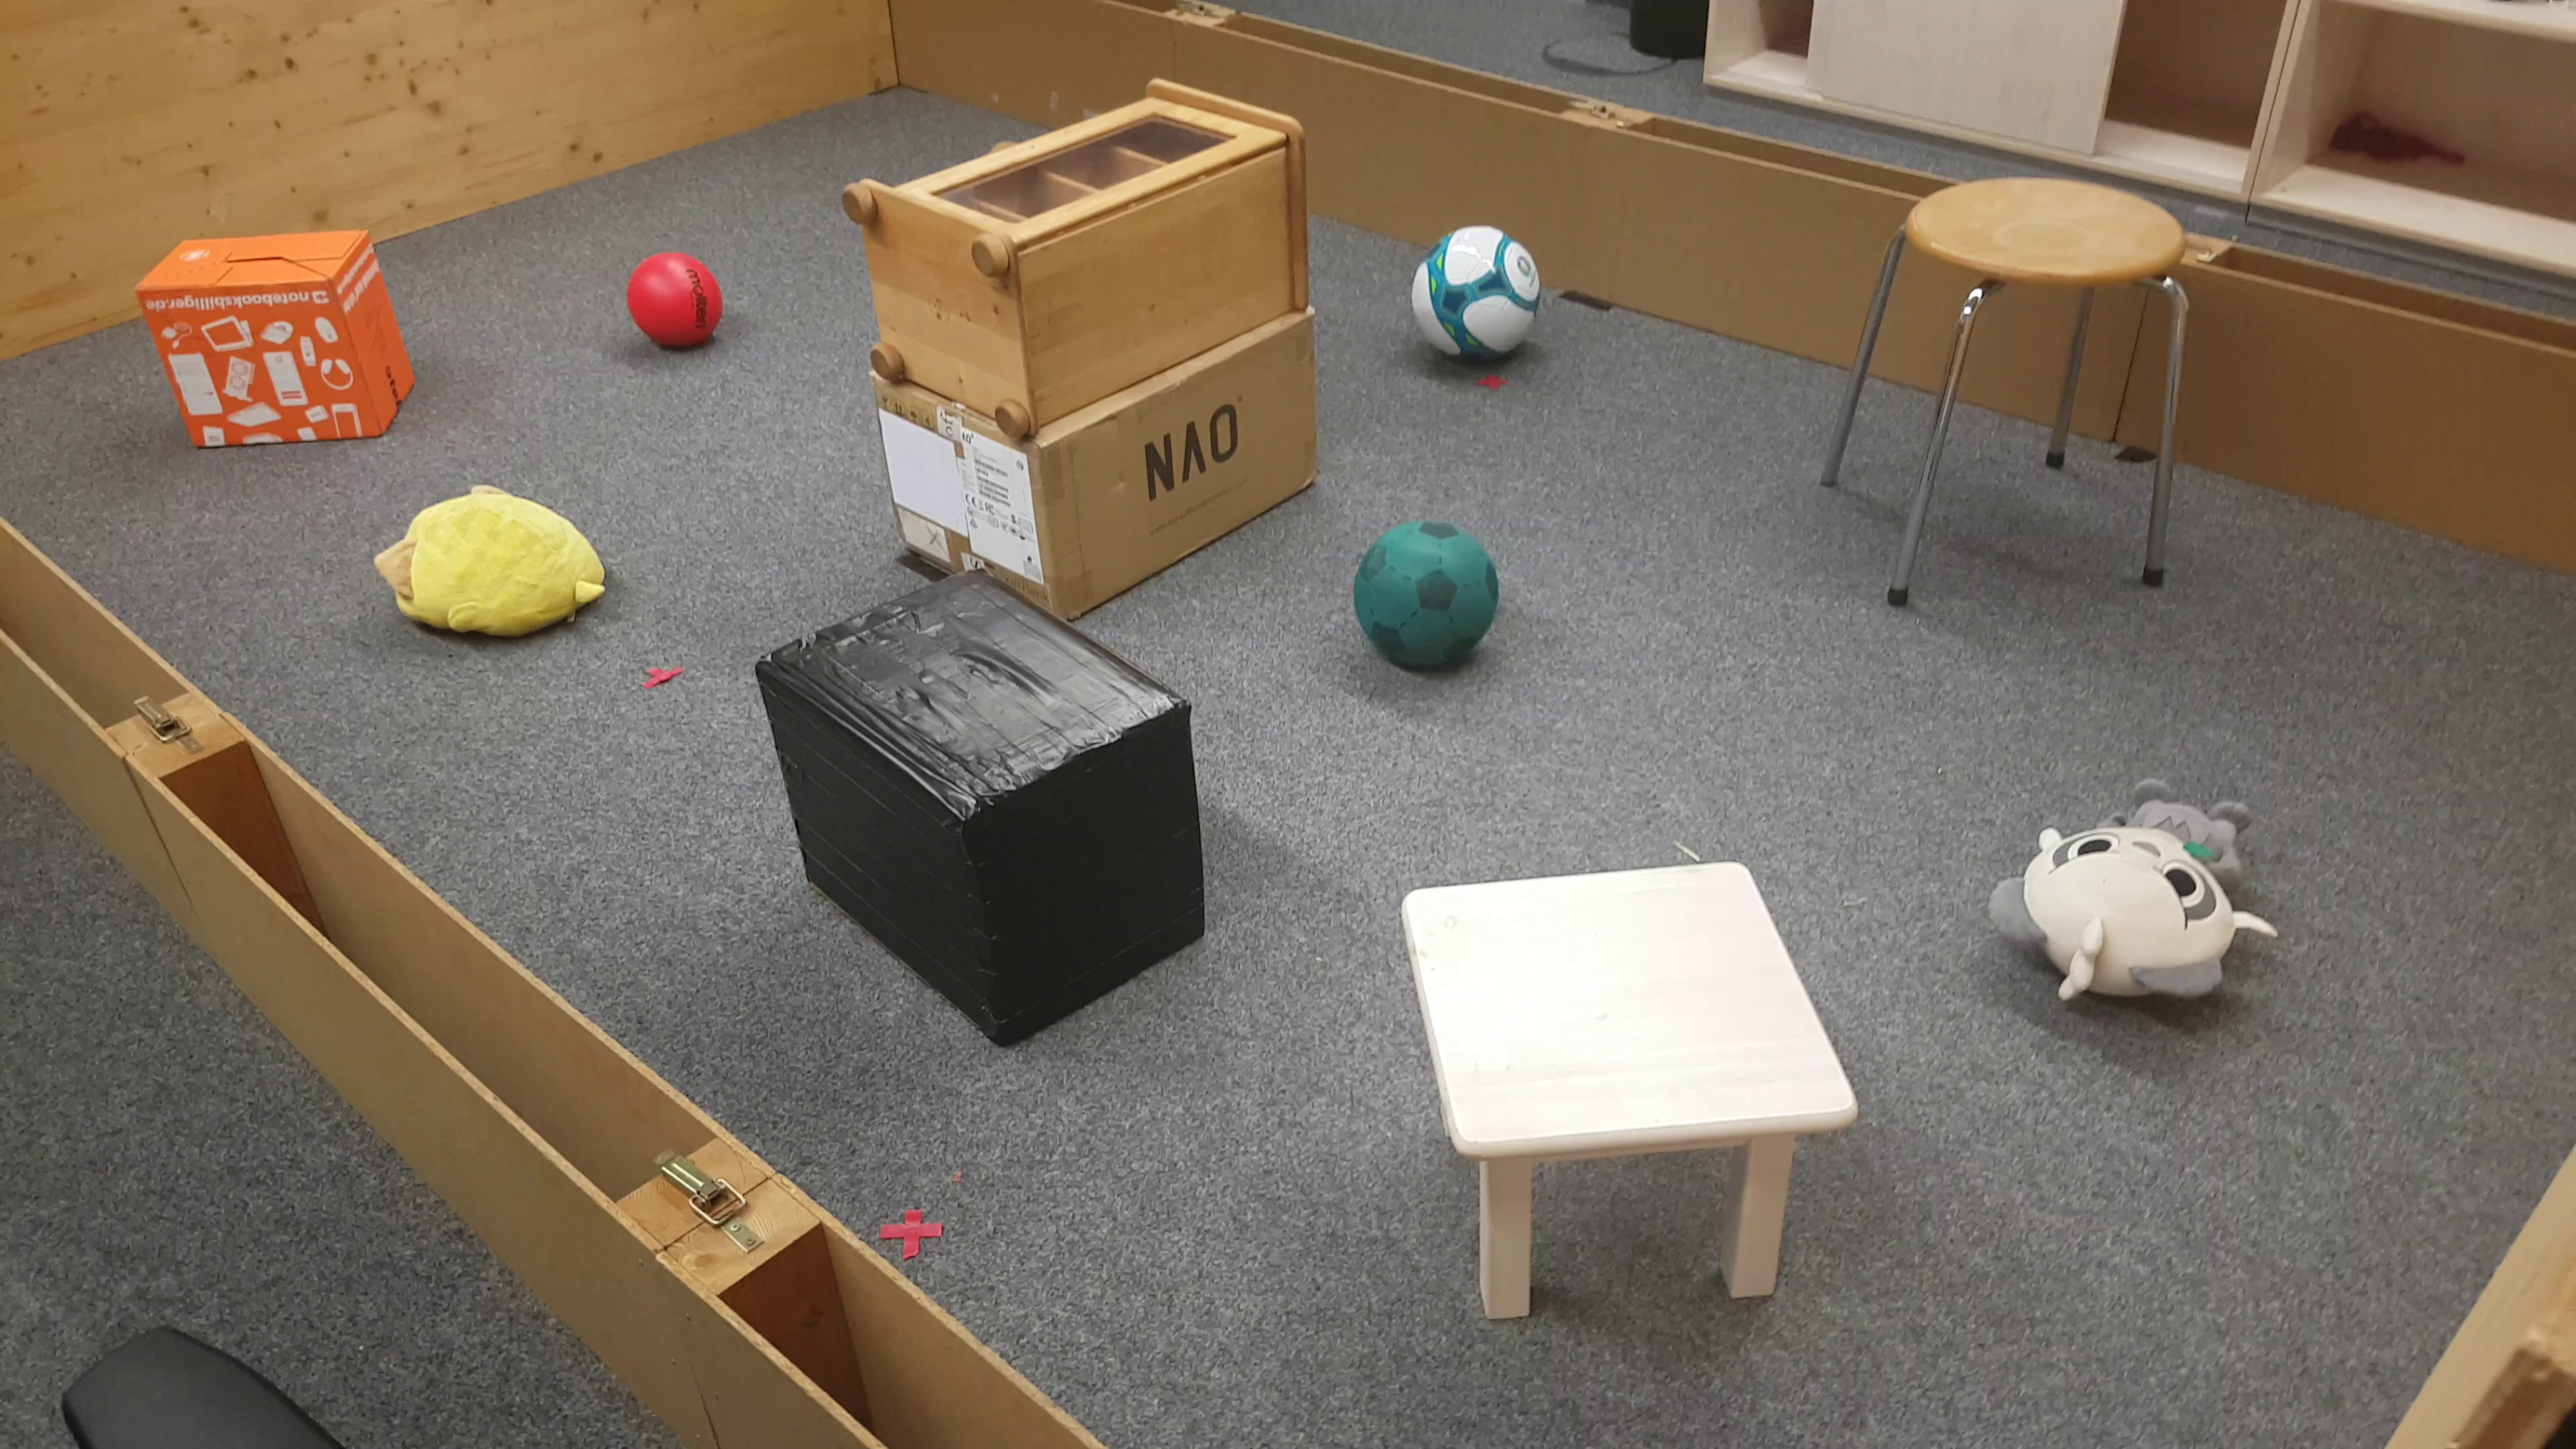grasp: (2010, 777, 2279, 1023), (368, 472, 616, 655)
kick: (1357, 513, 1516, 688), (1412, 225, 1548, 372), (626, 251, 736, 357)
push: (747, 559, 1207, 1044), (126, 226, 419, 456)
